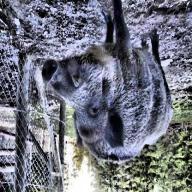boar: (39, 0, 184, 171)
